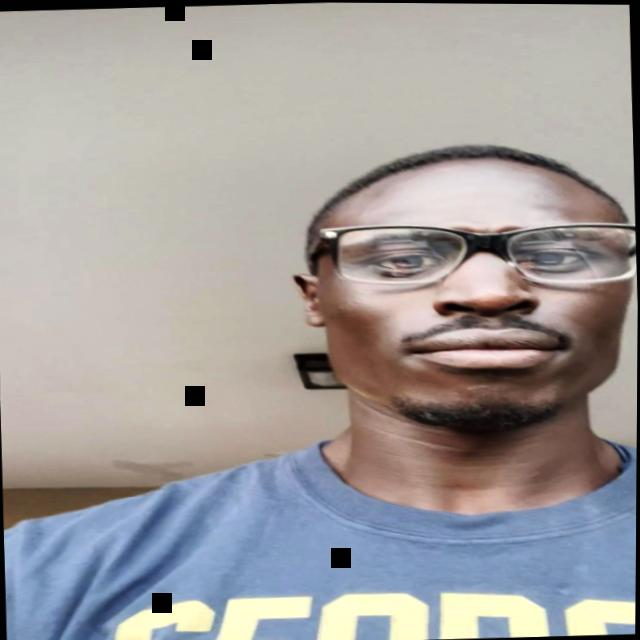NO-Mask: (290, 142, 639, 456)
